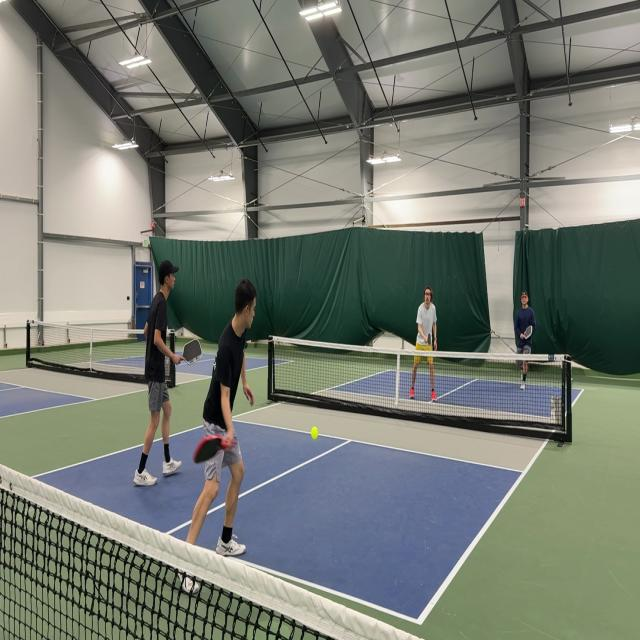ball: (310, 425, 319, 441)
